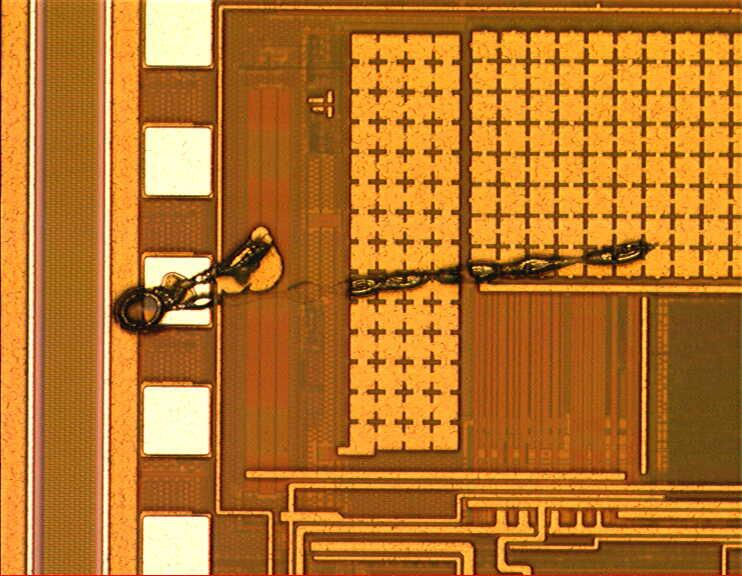PIQ PARTICLE: (109, 220, 666, 341)
